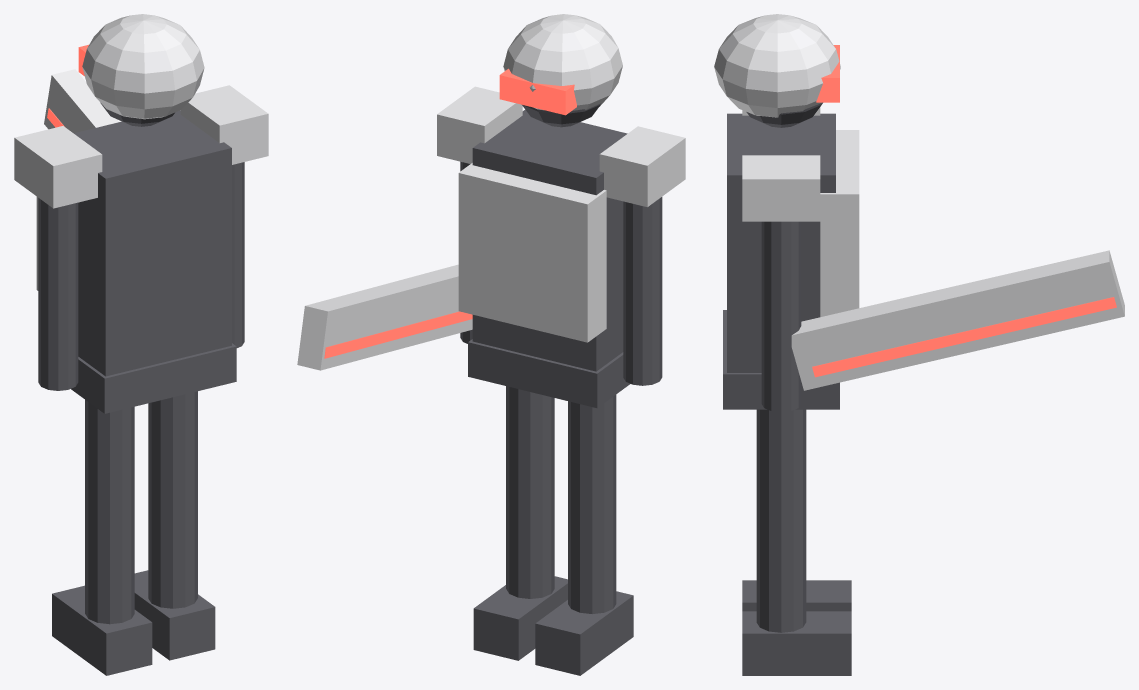
Rendered from jp_shinobi.glb.
3 views of the same model, side by side, from view 1: azimuth 30°, elevation 25°; view 2: azimuth 150°, elevation 25°; view 3: azimuth 270°, elevation 25° (orthographic). The views are drawn at different scales.
Parts seen in each view (by area): view 1: Shinobi_Torso, Shinobi_LegL, Shinobi_LegR, Shinobi_Helmet, Shinobi_ArmL, Shinobi_Belt, Shinobi_PadL, Shinobi_BootL, Shinobi_PadR, Shinobi_BootR, Shinobi_Blade, Shinobi_ArmR (+1 smaller); view 2: Shinobi_Chest, Shinobi_Torso, Shinobi_LegL, Shinobi_LegR, Shinobi_Blade, Shinobi_Helmet, Shinobi_ArmL, Shinobi_Belt, Shinobi_BootL, Shinobi_PadL, Shinobi_BootR, Shinobi_PadR (+3 smaller); view 3: Shinobi_Blade, Shinobi_Torso, Shinobi_LegR, Shinobi_Helmet, Shinobi_ArmR, Shinobi_Chest, Shinobi_BootR, Shinobi_PadR, Shinobi_BladeEdge, Shinobi_Belt, Shinobi_BootL, Shinobi_Head (+1 smaller).
Boxes of the visible parts, x1,y1,x2,y2 form: Shinobi_Torso: (74, 110, 231, 376); Shinobi_LegL: (85, 400, 134, 624); Shinobi_LegR: (148, 391, 197, 608); Shinobi_Helmet: (82, 14, 204, 119); Shinobi_ArmL: (38, 198, 78, 390); Shinobi_Belt: (71, 343, 236, 413); Shinobi_PadL: (14, 126, 102, 208); Shinobi_BootL: (52, 585, 152, 675); Shinobi_PadR: (180, 85, 268, 164); Shinobi_BootR: (134, 570, 215, 660); Shinobi_Blade: (44, 69, 118, 133); Shinobi_ArmR: (232, 162, 244, 347); Shinobi_Chest: (458, 163, 606, 342); Shinobi_Torso: (472, 109, 627, 371); Shinobi_LegL: (568, 395, 616, 613); Shinobi_LegR: (506, 386, 554, 598); Shinobi_Blade: (297, 264, 472, 370); Shinobi_Helmet: (503, 14, 622, 110); Shinobi_ArmL: (623, 197, 662, 385); Shinobi_Belt: (468, 339, 630, 408); Shinobi_BootL: (535, 591, 633, 675); Shinobi_PadL: (599, 126, 685, 207); Shinobi_BootR: (473, 576, 567, 660); Shinobi_PadR: (437, 86, 522, 163); Shinobi_Blade: (791, 250, 1124, 390); Shinobi_Torso: (727, 113, 835, 372); Shinobi_LegR: (756, 409, 806, 632); Shinobi_Helmet: (714, 14, 840, 117); Shinobi_ArmR: (761, 221, 801, 412); Shinobi_Chest: (820, 130, 859, 316); Shinobi_BootR: (742, 611, 851, 675); Shinobi_PadR: (742, 155, 820, 221); Shinobi_BladeEdge: (812, 297, 1116, 377); Shinobi_Belt: (723, 310, 839, 409); Shinobi_BootL: (742, 580, 851, 611); Shinobi_Head: (746, 102, 822, 127).
Size of the model in its own units: 0.6375 by 1.78 by 1.05.
